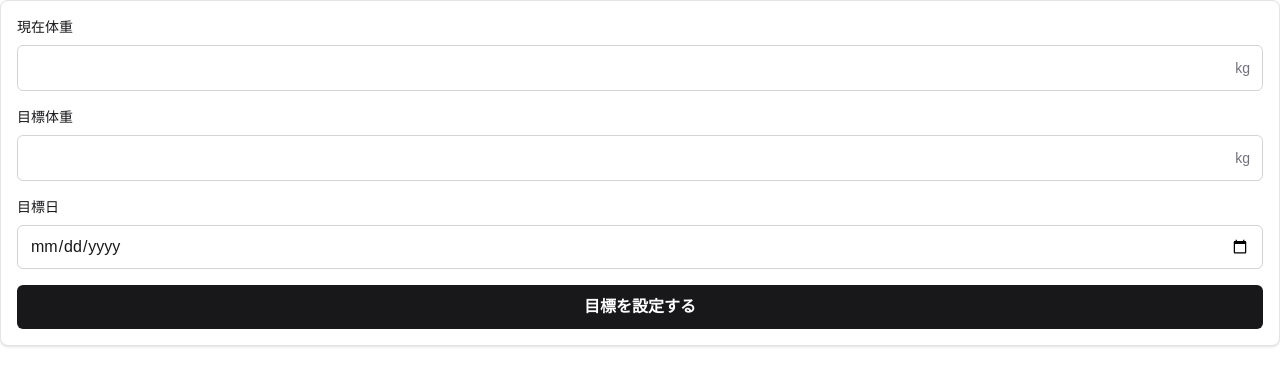
Test: GoalSettingForm › shows a business error when target weight is not less than current weight
The width and height of the screenshot is (1280, 392).
In the number field labelled "現在体重": (627, 68) [18,46,1235,90], type "75.0"
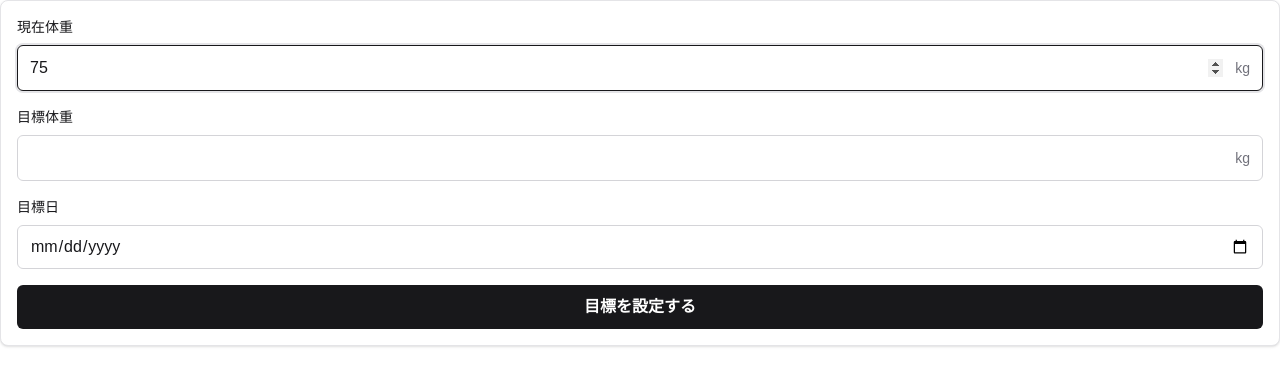
In the number field labelled "目標体重": (627, 158) [18,136,1235,180], type "75.0"
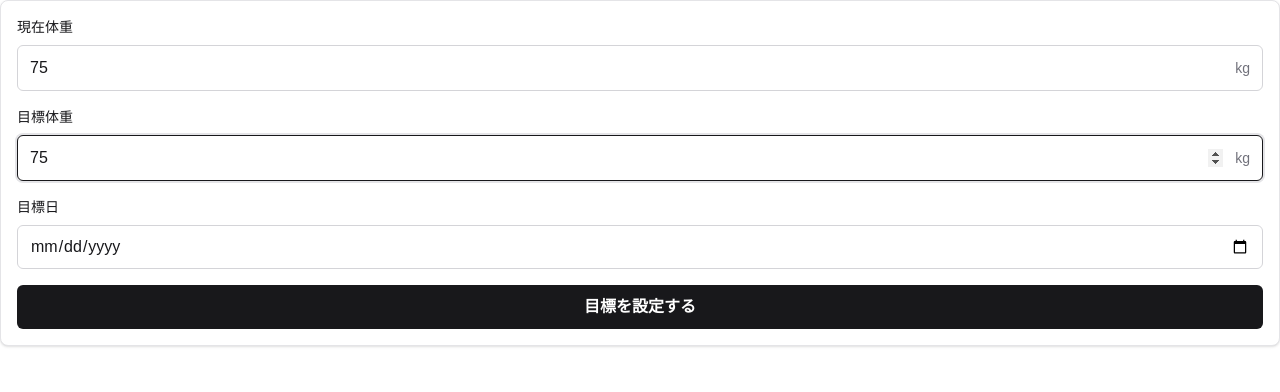
In the date field labelled "目標日": (640, 247) [17,225,1263,269], type "2026-06-30"
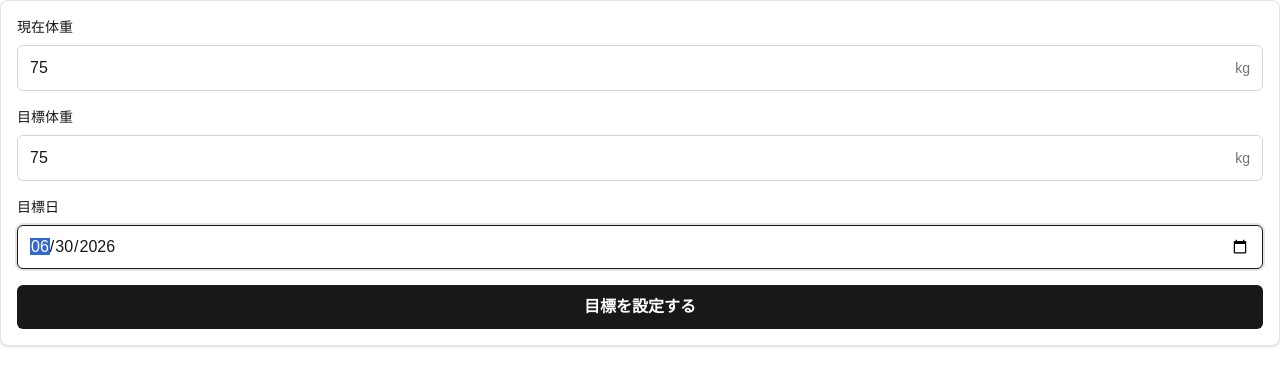
Click the button "目標を設定する": (640, 307) [17,285,1263,329]
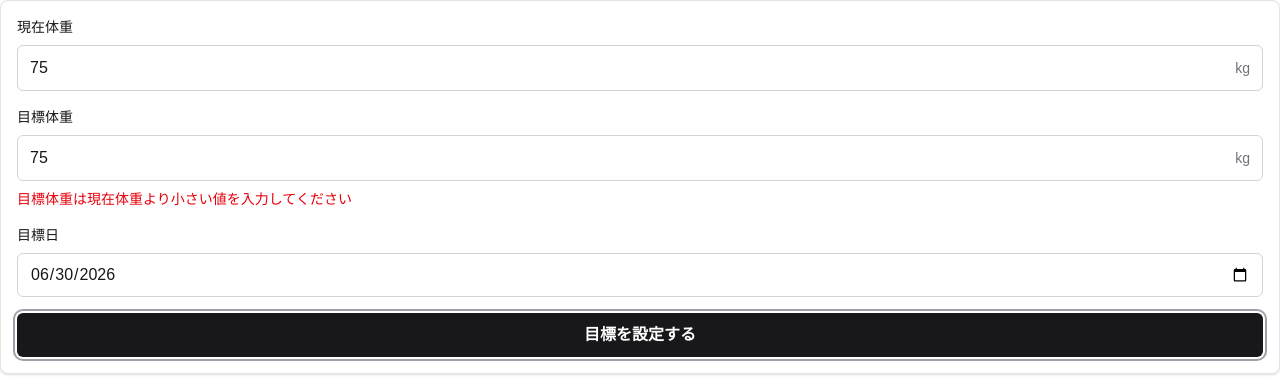
Now the text "目標体重は現在体重より小さい値を入力してください" is shown, box [17,191,352,207]
